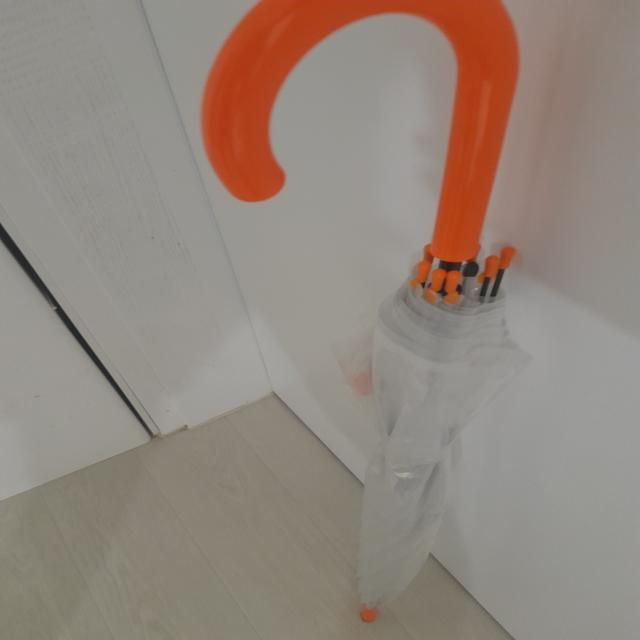umbrella: (202, 1, 536, 624)
